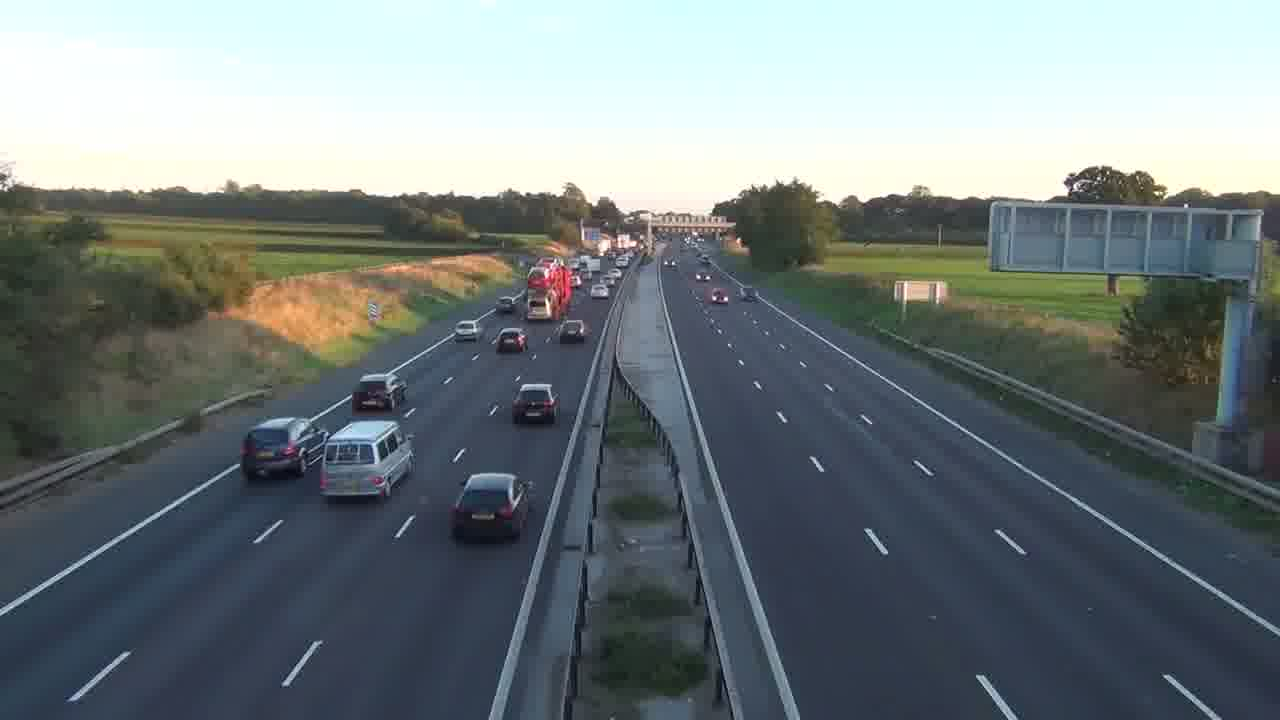car: (321, 418, 415, 501), (449, 471, 532, 542), (240, 415, 329, 479), (351, 372, 406, 411), (512, 383, 560, 425), (494, 326, 528, 354), (557, 319, 586, 344), (454, 319, 481, 342)
